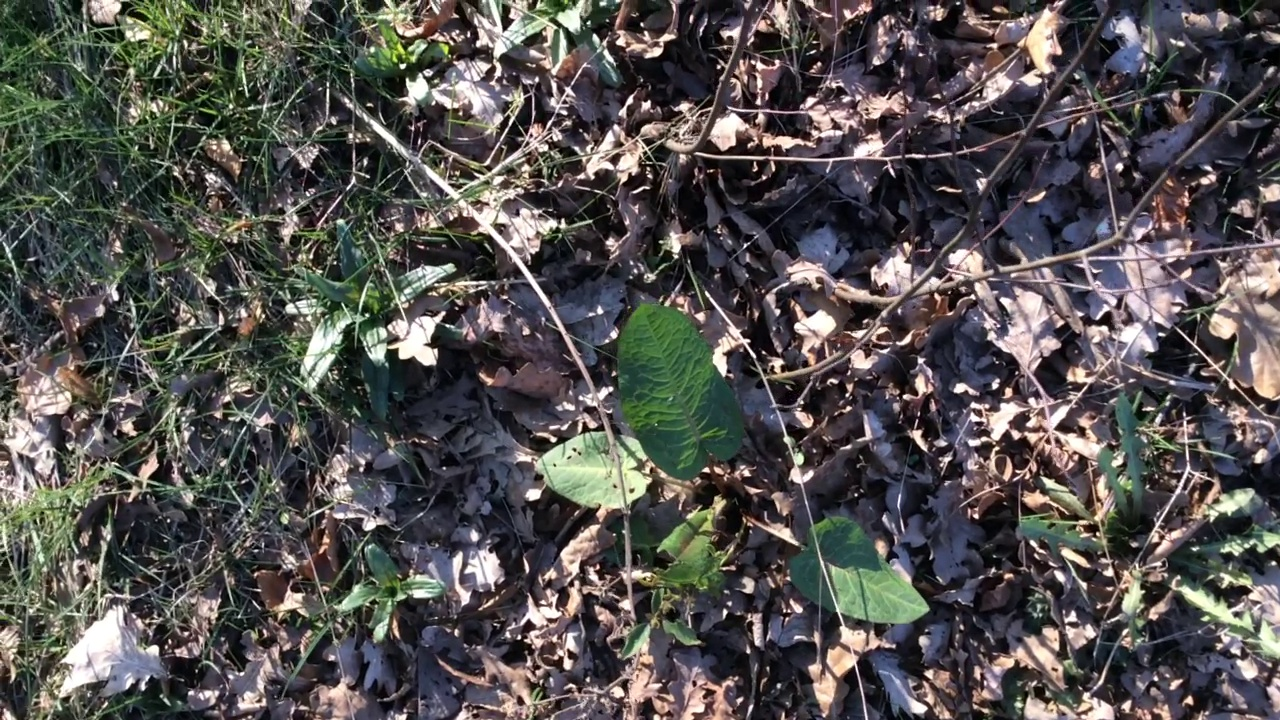rumex: (534, 301, 930, 652)
